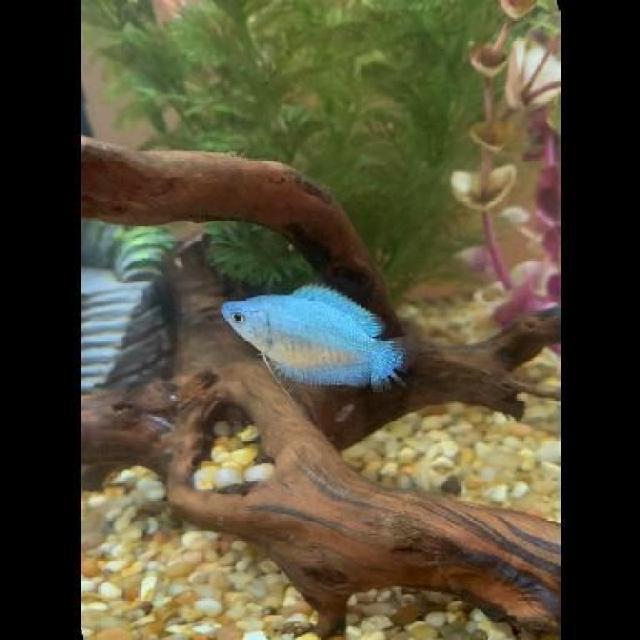Gourami: (216, 282, 409, 398)
